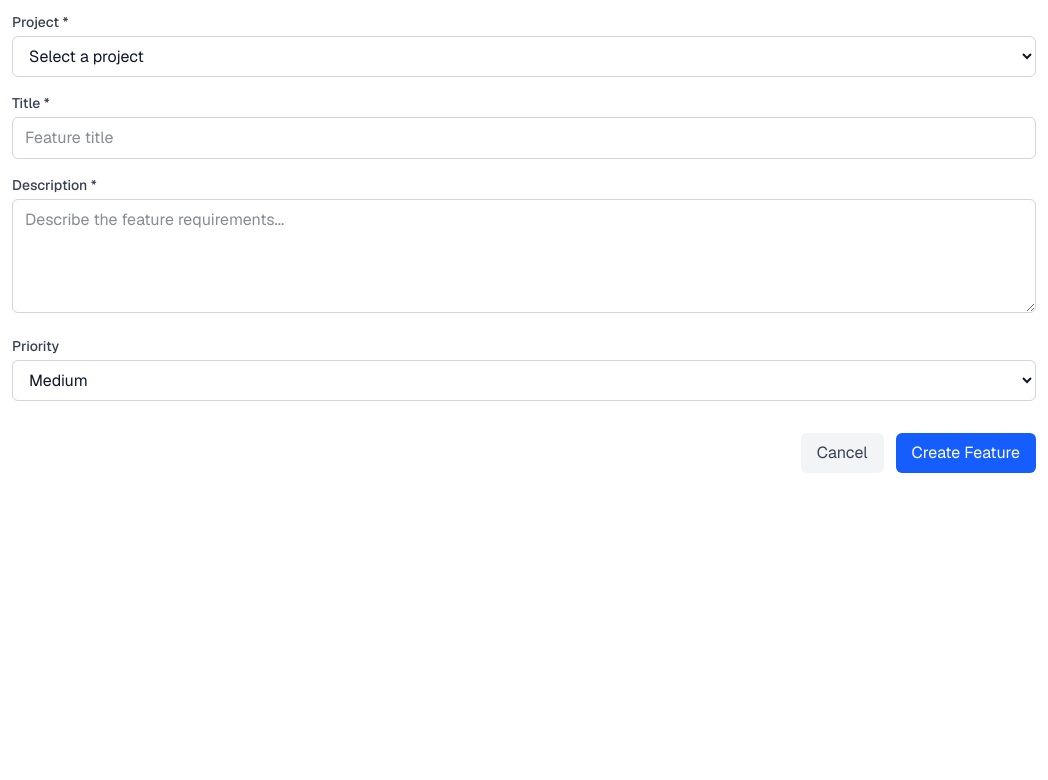
Scenario: FeatureForm › Create mode › should display API error on creation failure
Select "Project One" in the dropdown labelled "Project *" at [524, 56], box [12,36,1036,77]
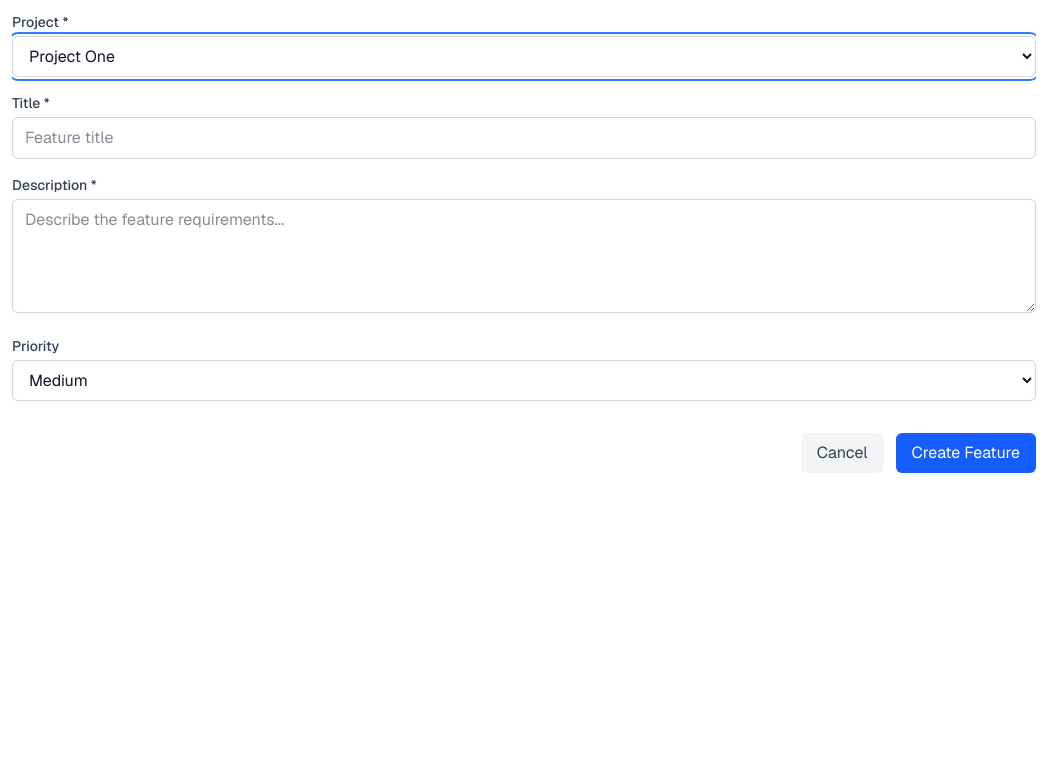
Type "New Feature" into the field labelled "Title *" at [524, 138], box [12,117,1036,159]
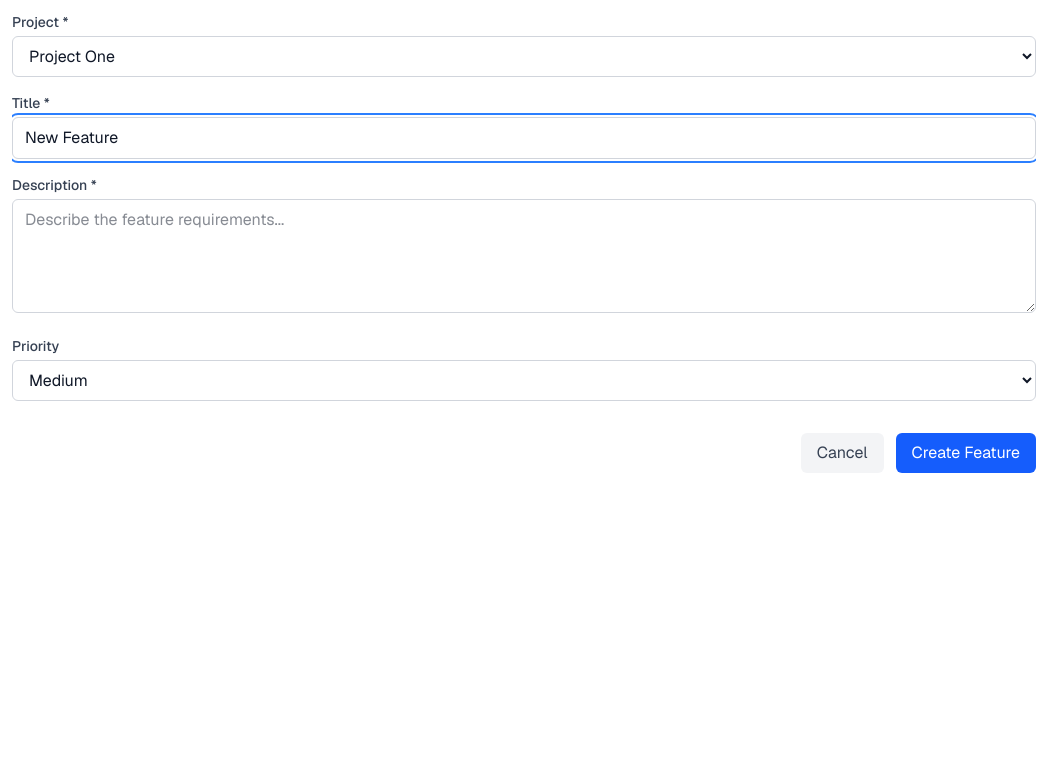
Type "Feature description" into the text box labelled "Description *" at [524, 256], box [12,199,1036,313]
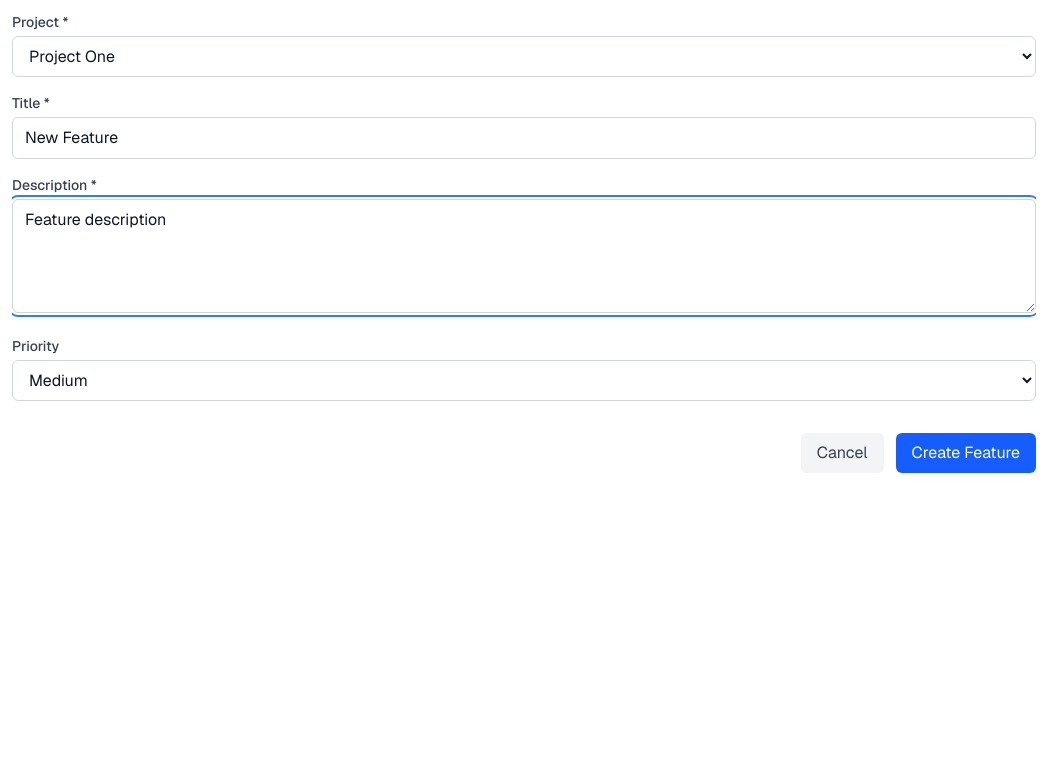
Click the button "Create Feature" at [966, 453], box [896,433,1036,473]
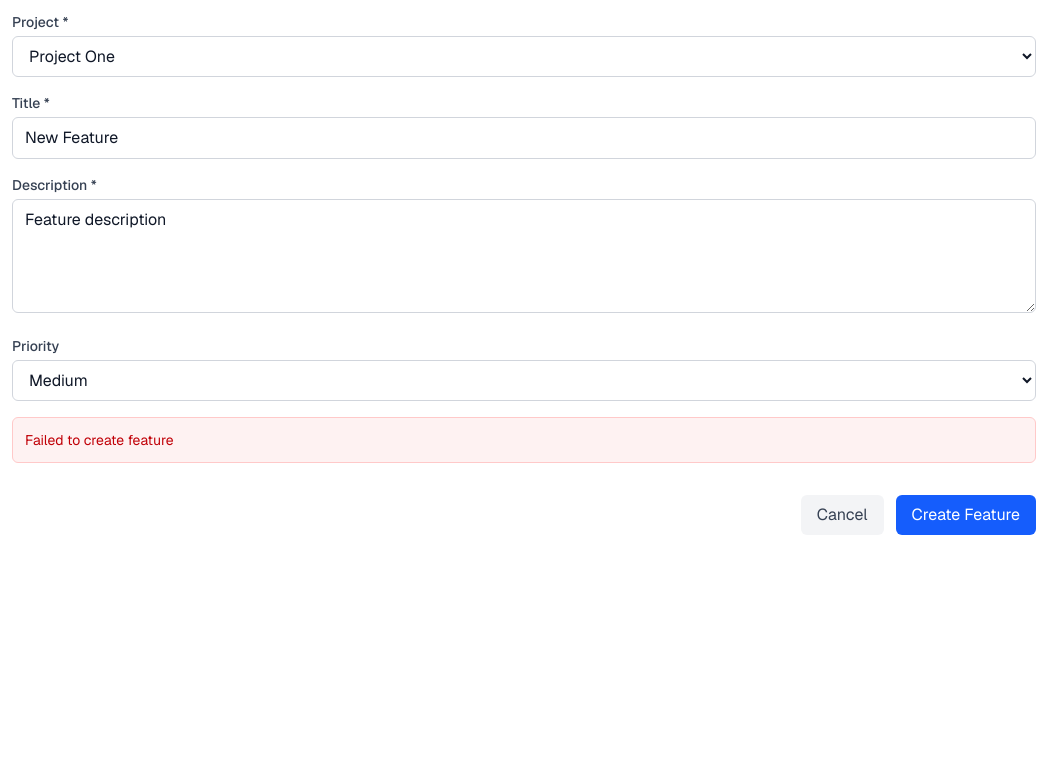
Now the text "Failed to create feature" is shown, box [25,431,174,449]
